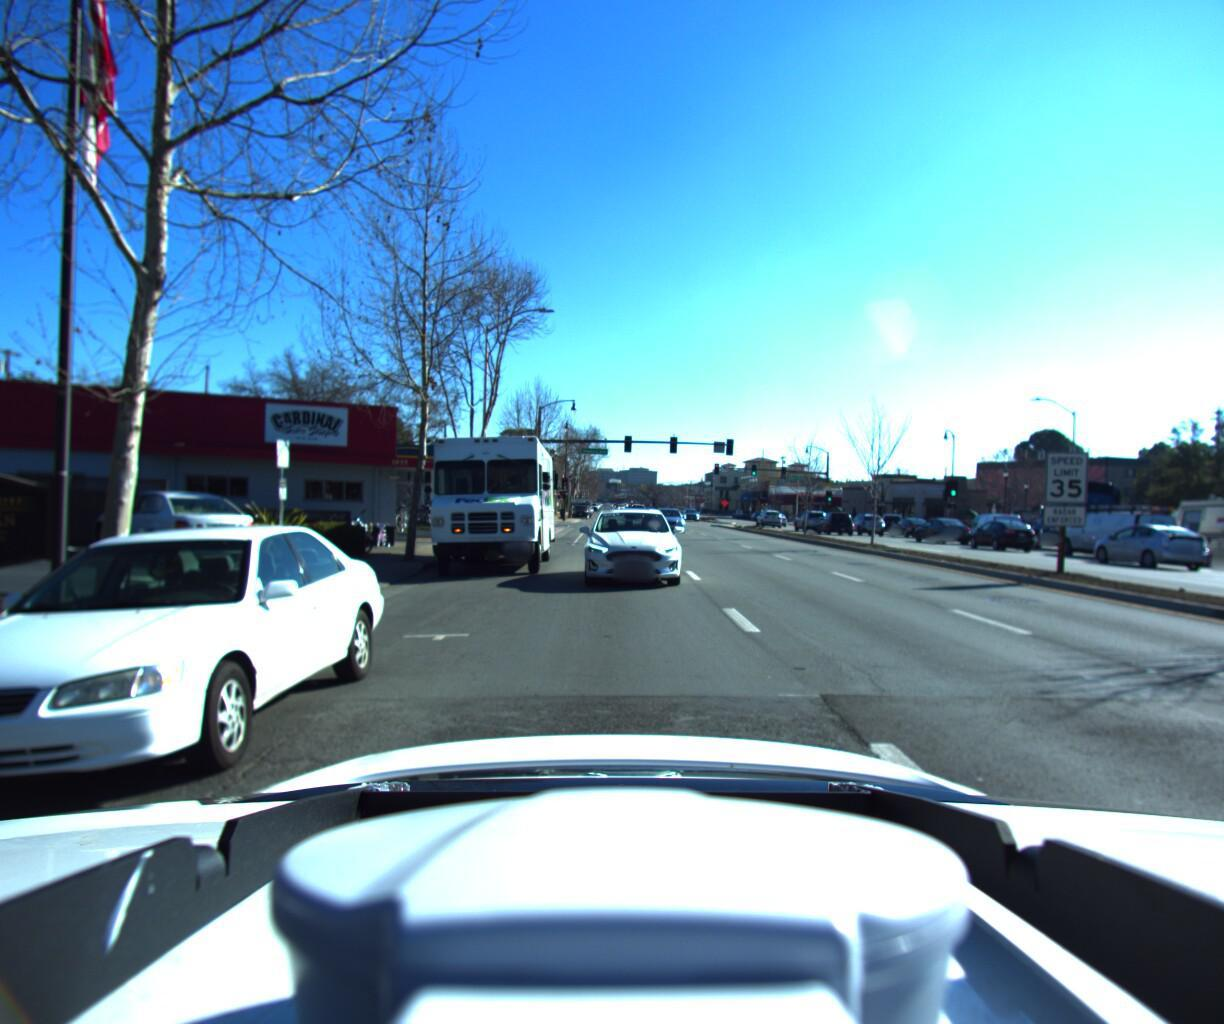bicycle: (399, 500, 440, 527), (301, 510, 317, 555), (385, 502, 410, 532), (388, 503, 413, 533)
car: (87, 485, 266, 567), (572, 505, 680, 597), (1052, 500, 1177, 563), (1081, 520, 1208, 571), (960, 516, 1035, 551), (956, 511, 1021, 546), (910, 514, 969, 542), (655, 507, 691, 537), (842, 509, 884, 533), (814, 509, 853, 533), (790, 508, 829, 532), (754, 508, 782, 527)
other_vehicle: (1131, 484, 1224, 571)
truck: (408, 431, 559, 582), (1023, 475, 1166, 556)
